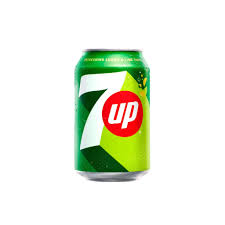can: (73, 46, 157, 186)
